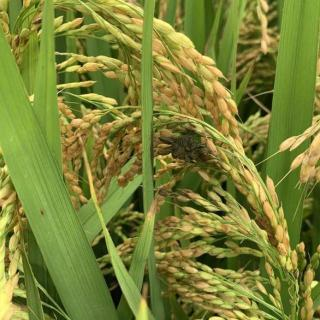Gosong-Palsu: (168, 133, 204, 165)
